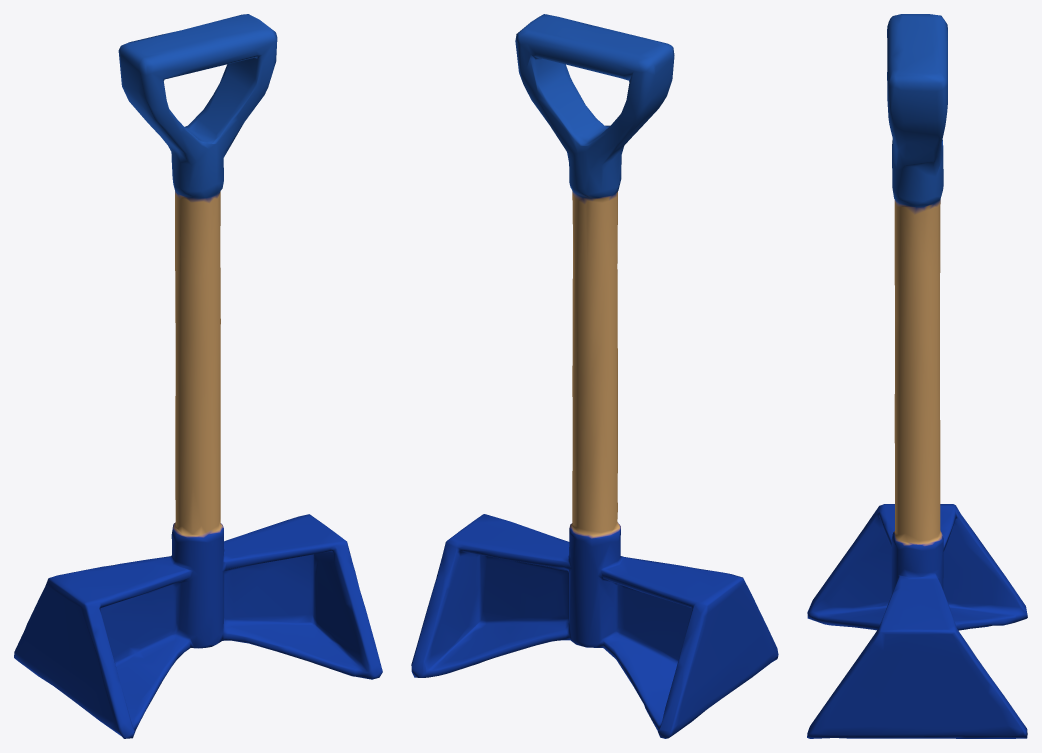
Rendered from gen3d-snow-shovel-lod0.glb.
The picture shows the model from 3 angles, left to right: view 1: azimuth 30°, elevation 25°; view 2: azimuth 150°, elevation 25°; view 3: azimuth 270°, elevation 25°; orthographic projection.
Visible parts, largest first — view 1: part_0; view 2: part_0; view 3: part_0.
Boxes of the visible parts, box(x1,y1,x2,y2) form: part_0: box(14, 14, 382, 738); part_0: box(411, 14, 778, 738); part_0: box(807, 14, 1027, 738).
Size of the model in its own units: 0.4337 by 0.9999 by 0.316.
